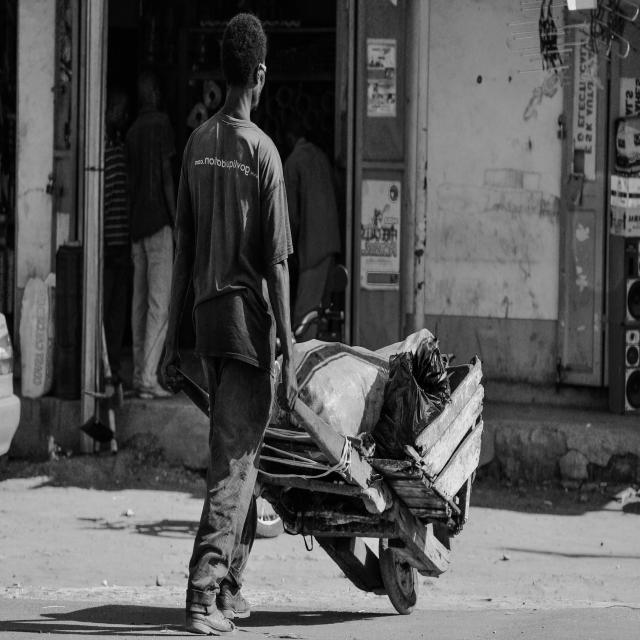adult: (162, 13, 298, 640)
